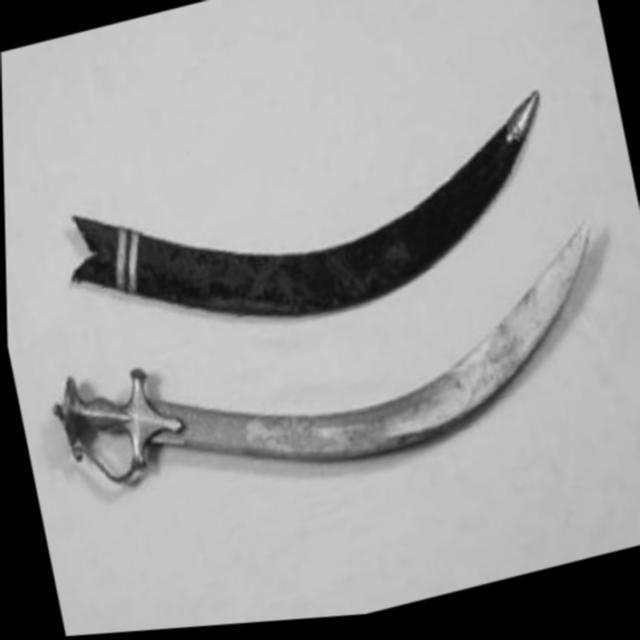weapon: (37, 225, 622, 534), (51, 93, 572, 376)
